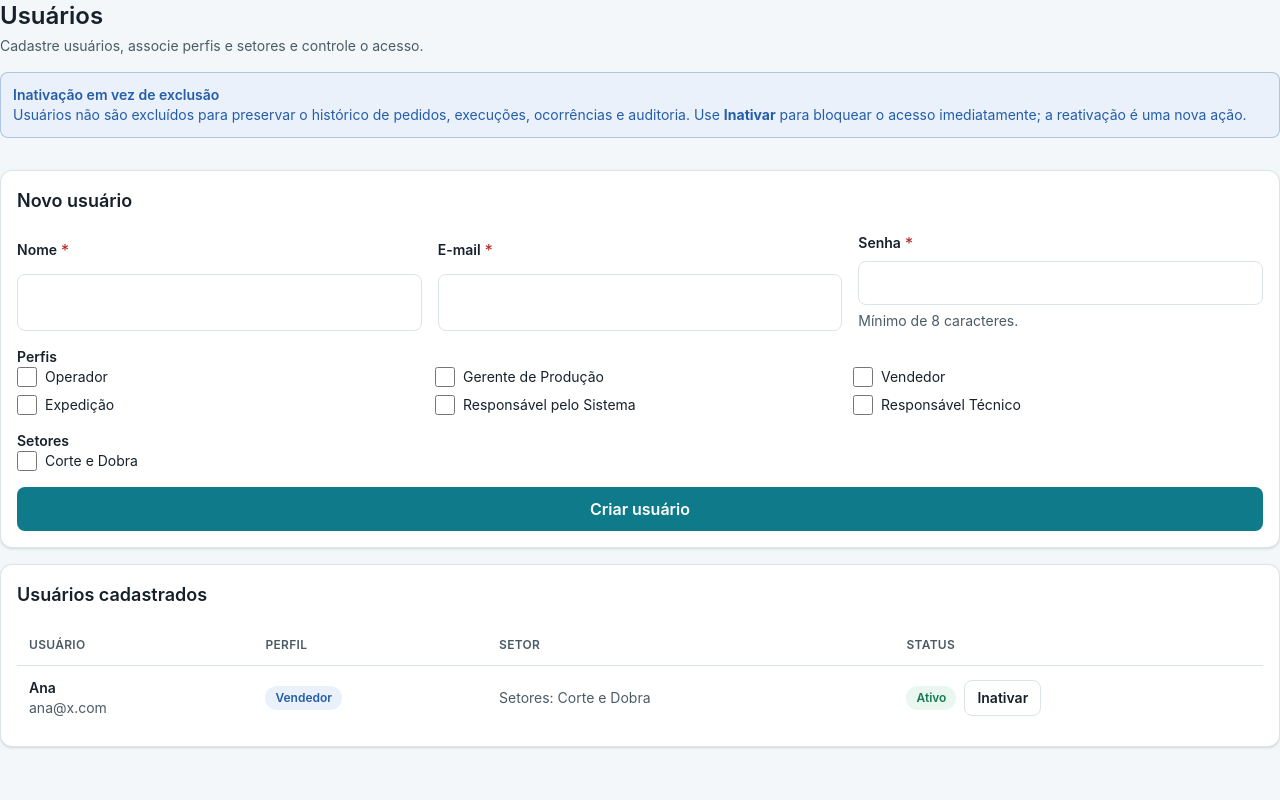
Test: UsuariosPage › inativa um usuário somente após confirmação e informa o resultado (FEP-08)
Click the button with aria-label "Inativar usuário Ana".
click(1003, 698)  # box [964,680,1041,716]
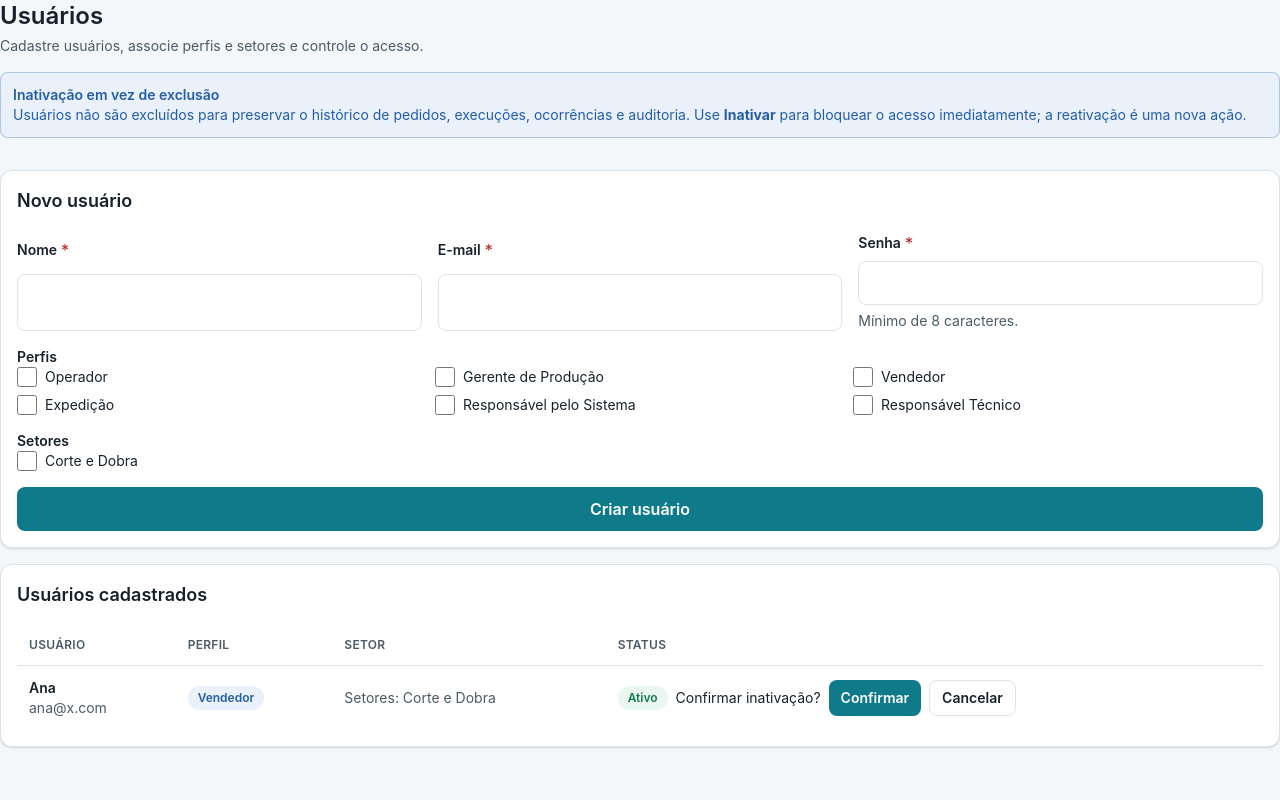
Expected: the text "Confirmar inativação?" is shown, [676,688,821,708]
Click the button with aria-label "Confirmar inativação de Ana".
click(875, 698)  # box [829,680,921,716]
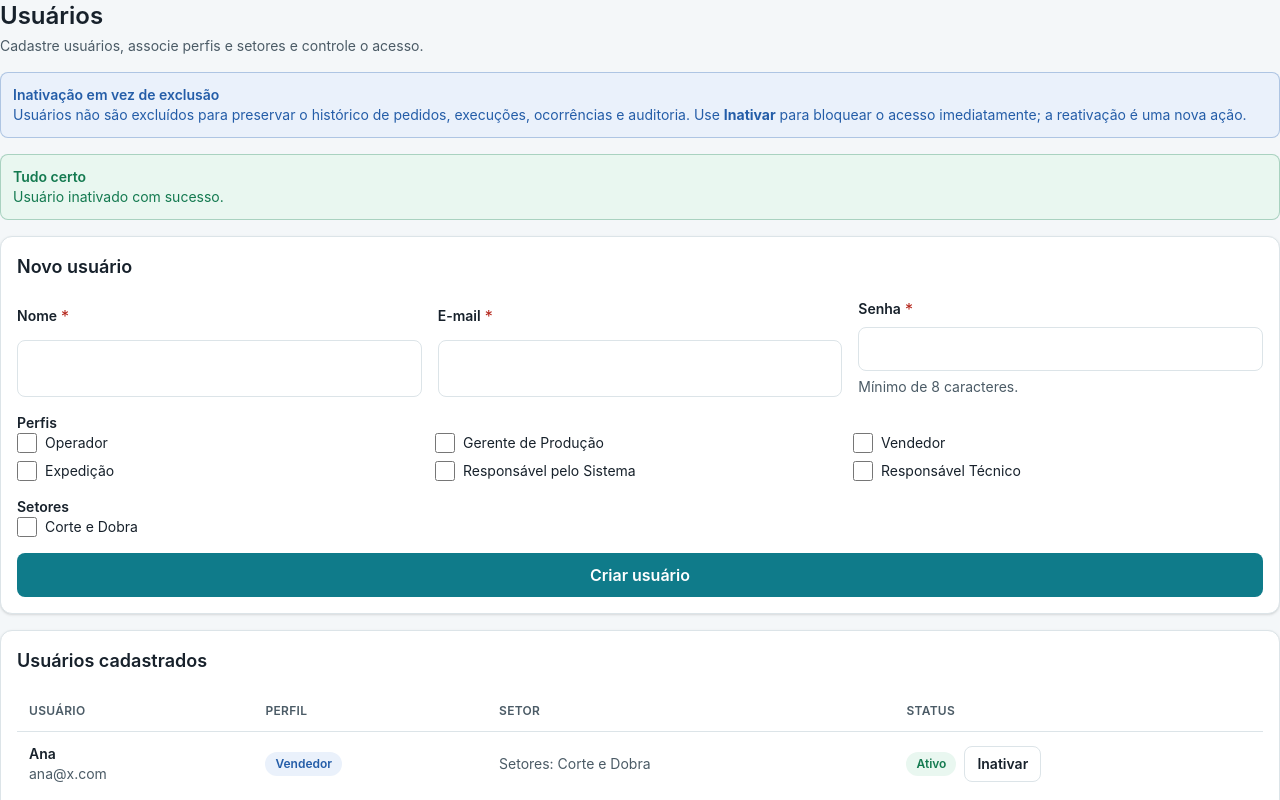
Expected: the text "Usuário inativado com sucesso." is shown, [13,187,224,207]
